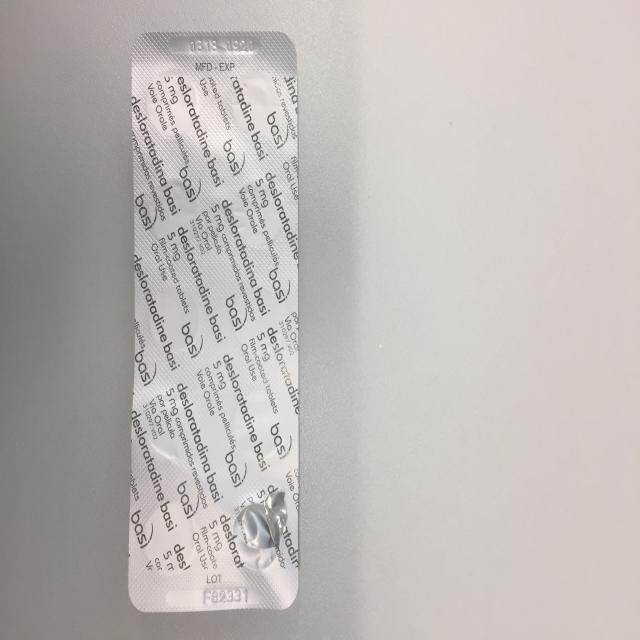Empty: (226, 486, 292, 576)
Pill: (141, 498, 201, 582), (226, 388, 288, 467), (141, 174, 204, 251), (141, 65, 201, 145), (225, 70, 288, 146), (142, 384, 199, 464), (228, 175, 284, 252), (144, 280, 202, 354), (230, 280, 280, 353)
